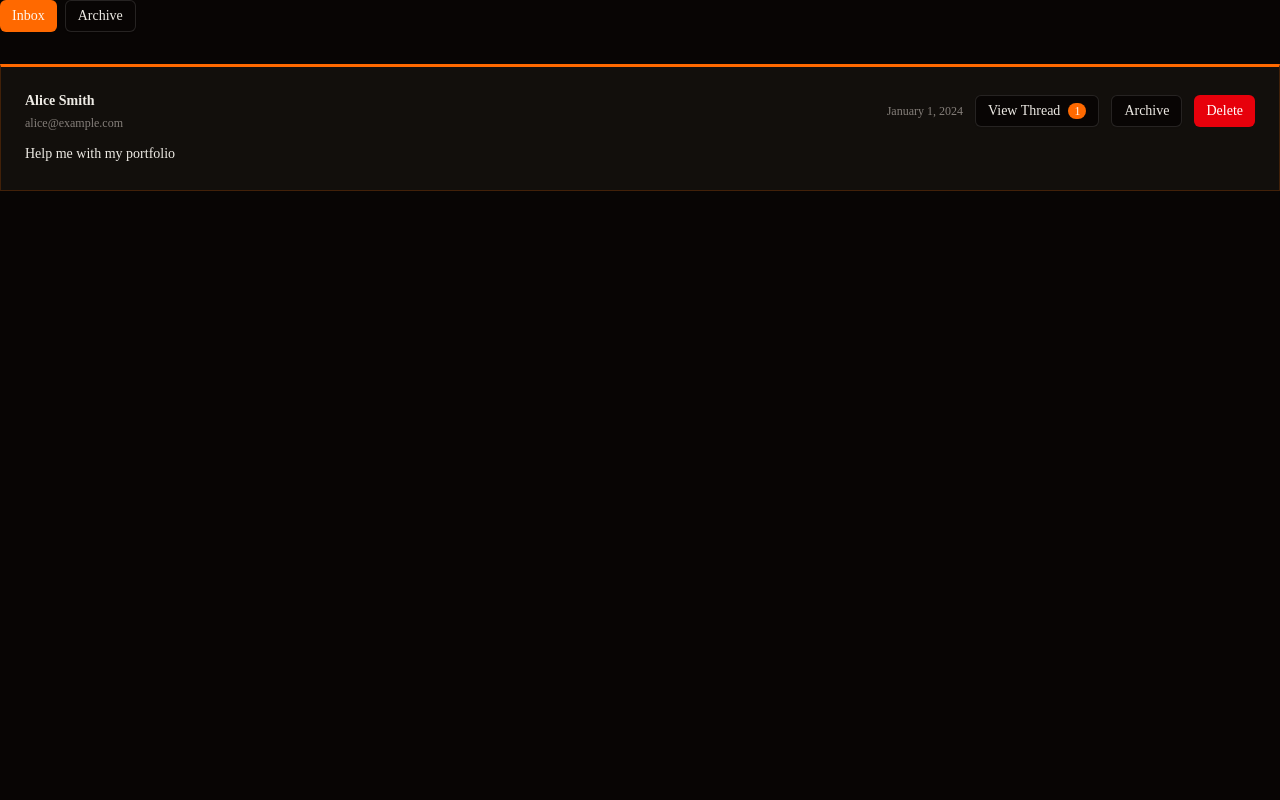
Test: AdminContent ThreadPanel as Sheet › opens a Sheet with Thread title when View Thread is clicked
The width and height of the screenshot is (1280, 800).
Click the button "View Thread 1": (1037, 111) [975,95,1099,127]
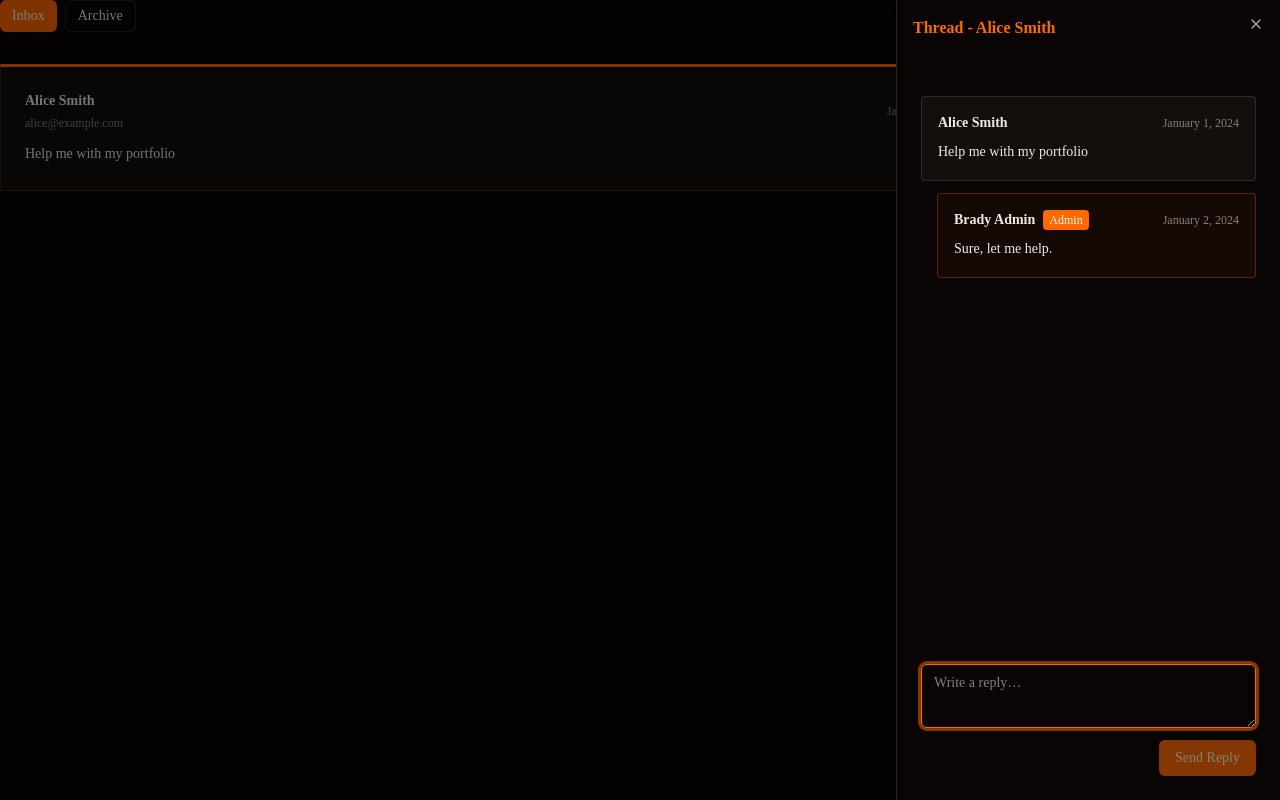
Expected: the dialog is shown, [896,0,1279,799]
Expected: the heading "Thread - Alice Smith" is shown, [913,19,1055,36]
